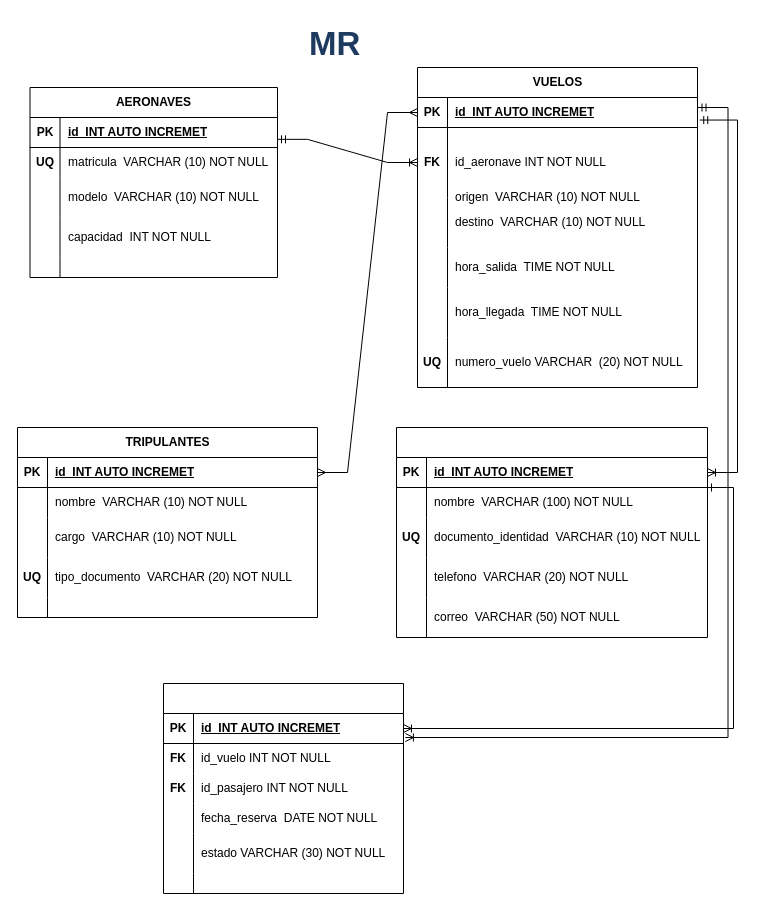
The diagram is 764 pixels wide and 911 high, and some of its shapes have lost their labels. Each missing label, with the box of its shape:
PASAJEROS: (396, 426, 708, 638)
RESERVAS: (162, 682, 404, 894)
